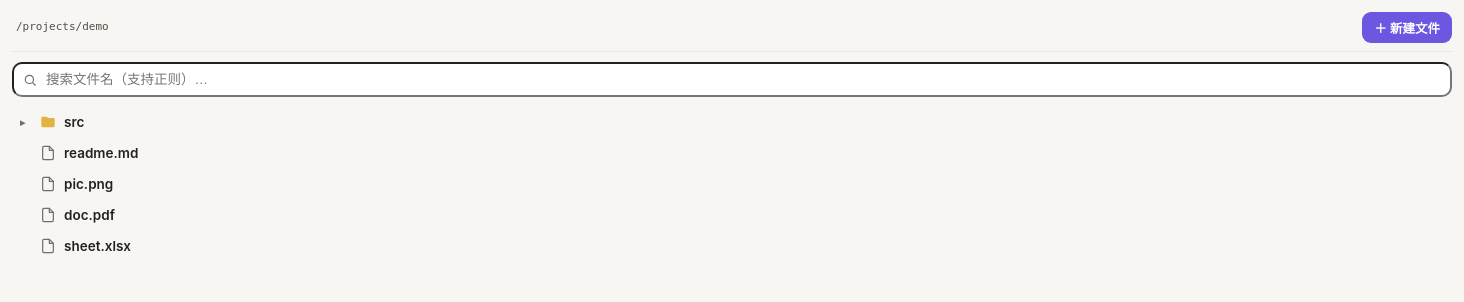
Test: FilesPanel › lazily loads a directory the first time it is expanded
The image size is (1464, 302).
Click the text "src": (74, 122) [64, 114, 84, 130]
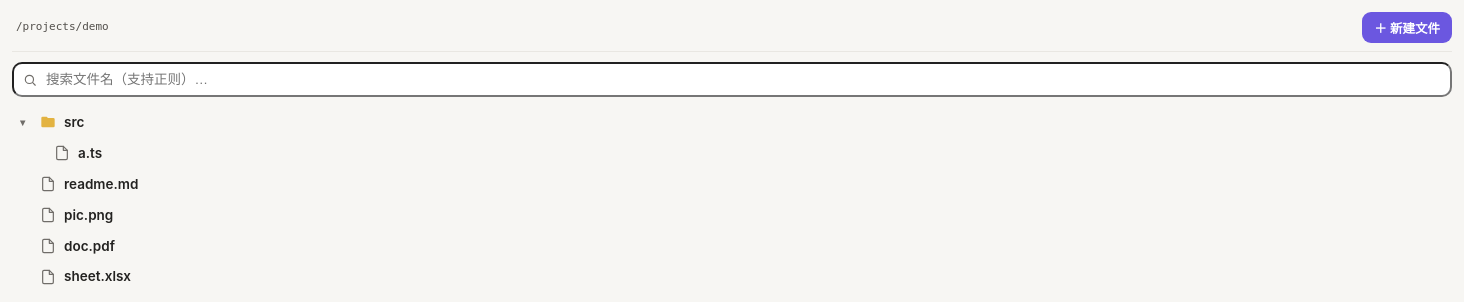
Check: the text "a.ts" is shown, box [78, 145, 102, 161]
